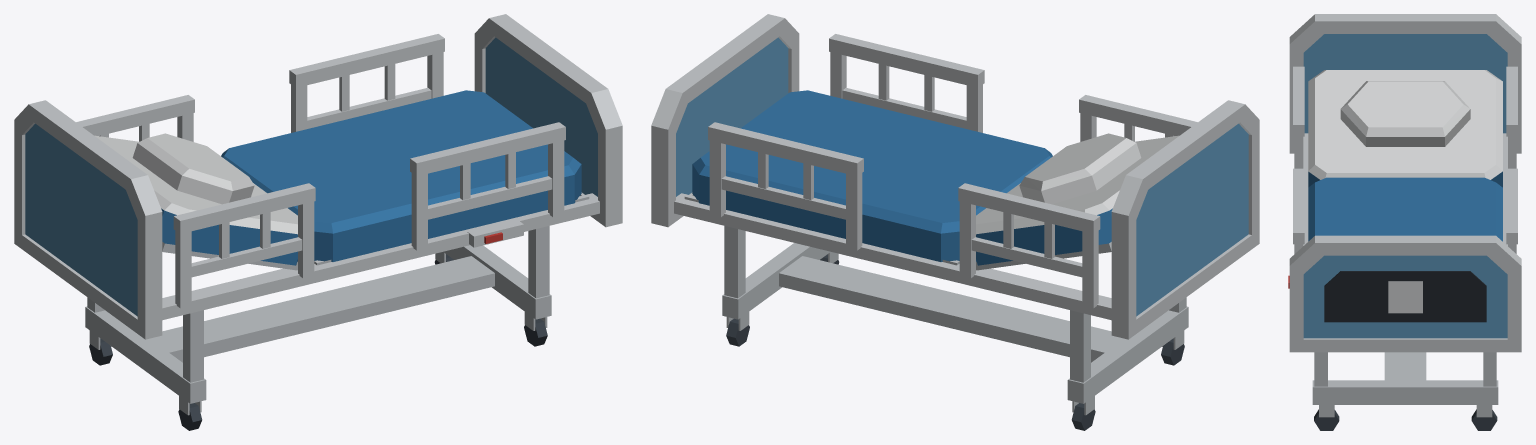
The model's file is hospital-bed-31132d.glb.
3 views of the same model, side by side, from view 1: azimuth 30°, elevation 25°; view 2: azimuth 150°, elevation 25°; view 3: azimuth 270°, elevation 25° (orthographic). The views are drawn at different scales.
Parts seen in each view (by area): view 1: hospital-bed, backrest, pillow-1; view 2: hospital-bed, backrest, pillow-1; view 3: hospital-bed, backrest, pillow-1, wheel-rr, wheel-fr.
Boxes of the visible parts, left/top/right/bottom form: hospital-bed: left=14, top=14, right=622, bottom=415; backrest: left=94, top=135, right=297, bottom=270; pillow-1: left=132, top=133, right=254, bottom=204; hospital-bed: left=651, top=14, right=1259, bottom=415; backrest: left=976, top=135, right=1179, bottom=270; pillow-1: left=1019, top=133, right=1141, bottom=204; hospital-bed: left=1288, top=14, right=1521, bottom=417; backrest: left=1308, top=70, right=1502, bottom=187; pillow-1: left=1340, top=81, right=1470, bottom=146; wheel-rr: left=1471, top=409, right=1497, bottom=430; wheel-fr: left=1314, top=409, right=1339, bottom=430.
Bounding box in the file's own units: 2.1 × 1.13 × 1.
